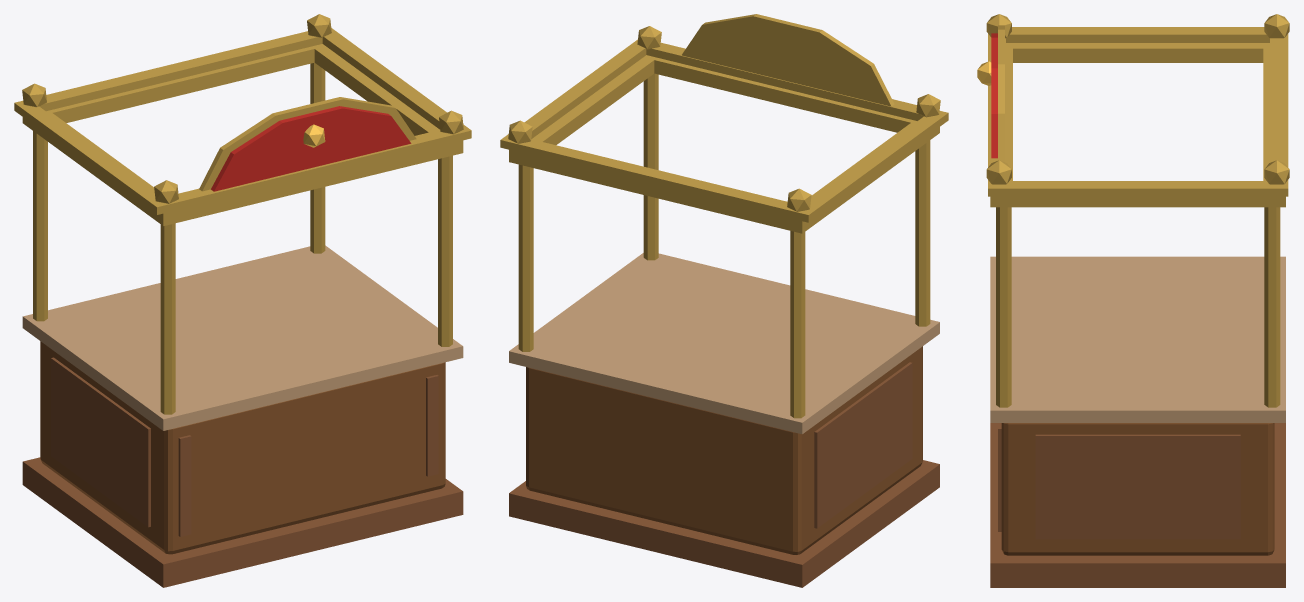
Rendered from tu-kinh.glb.
3 renders of one model, left to right at view 1: azimuth 30°, elevation 25°; view 2: azimuth 150°, elevation 25°; view 3: azimuth 270°, elevation 25°, orthographic. The views are drawn at different scales.
Visible parts, largest first — view 1: tu-kinh-2, tu-kinh-3, tu-kinh-1, tu-kinh-0, tu-kinh-4; view 2: tu-kinh-3, tu-kinh-2, tu-kinh-1, tu-kinh-0; view 3: tu-kinh-2, tu-kinh-0, tu-kinh-3, tu-kinh-1, tu-kinh-4.
Part boxes in pixels (box(x1,y1,x2,y2)): tu-kinh-2: box(22, 245, 463, 430); tu-kinh-3: box(14, 14, 471, 414); tu-kinh-1: box(40, 341, 445, 554); tu-kinh-0: box(22, 357, 463, 587); tu-kinh-4: box(211, 106, 411, 191); tu-kinh-3: box(500, 14, 948, 418); tu-kinh-2: box(509, 253, 939, 434); tu-kinh-1: box(526, 346, 922, 554); tu-kinh-0: box(509, 362, 939, 587); tu-kinh-2: box(990, 256, 1285, 422); tu-kinh-0: box(990, 423, 1285, 587); tu-kinh-3: box(986, 14, 1289, 407); tu-kinh-1: box(1001, 423, 1274, 555); tu-kinh-4: box(991, 33, 997, 158).
Size of the model in its own units: 1.68 by 2.25 by 1.37.
